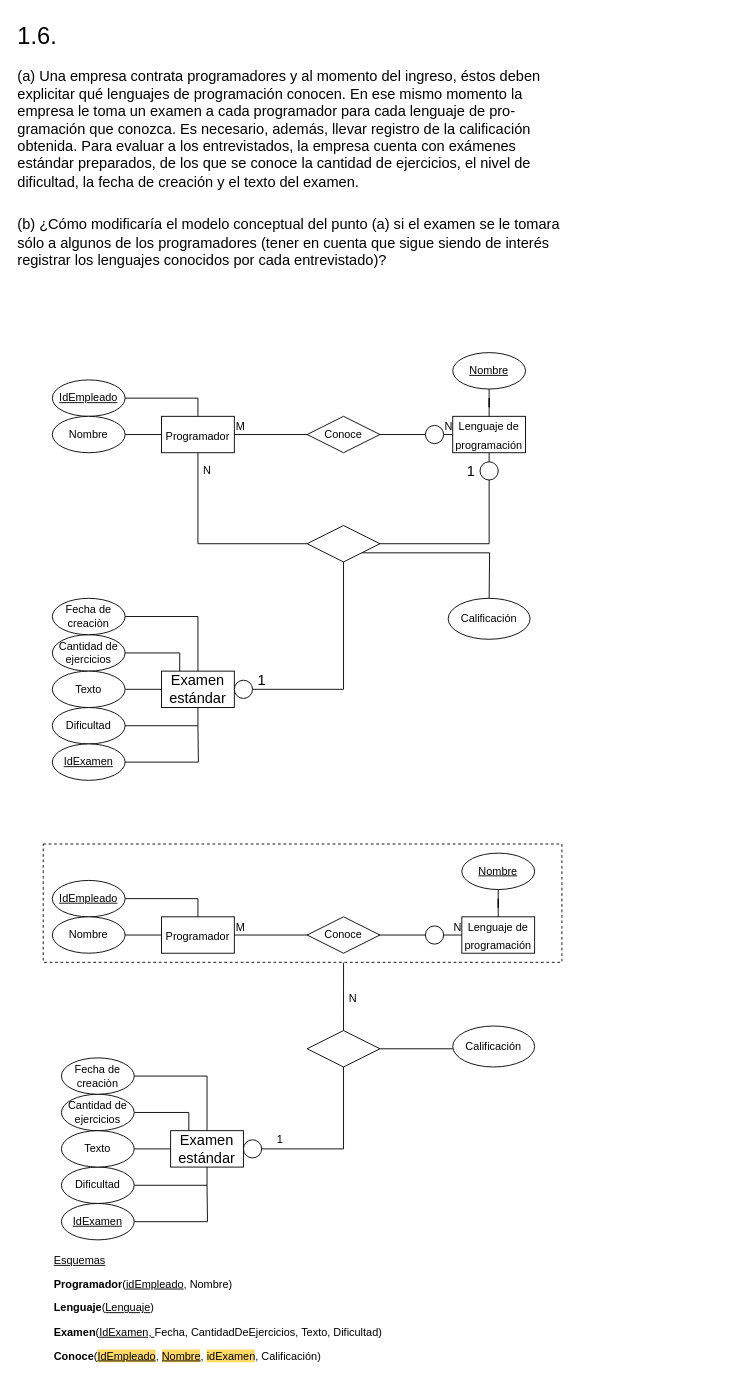
Some shapes in this 741 by 1391 pixel diagram are drawn without their labels. Here are the shapes that lost their labels. From the top down, the box of each, then its label:
(306, 525, 380, 562): Rinde
(306, 1030, 380, 1067): Evaluado
